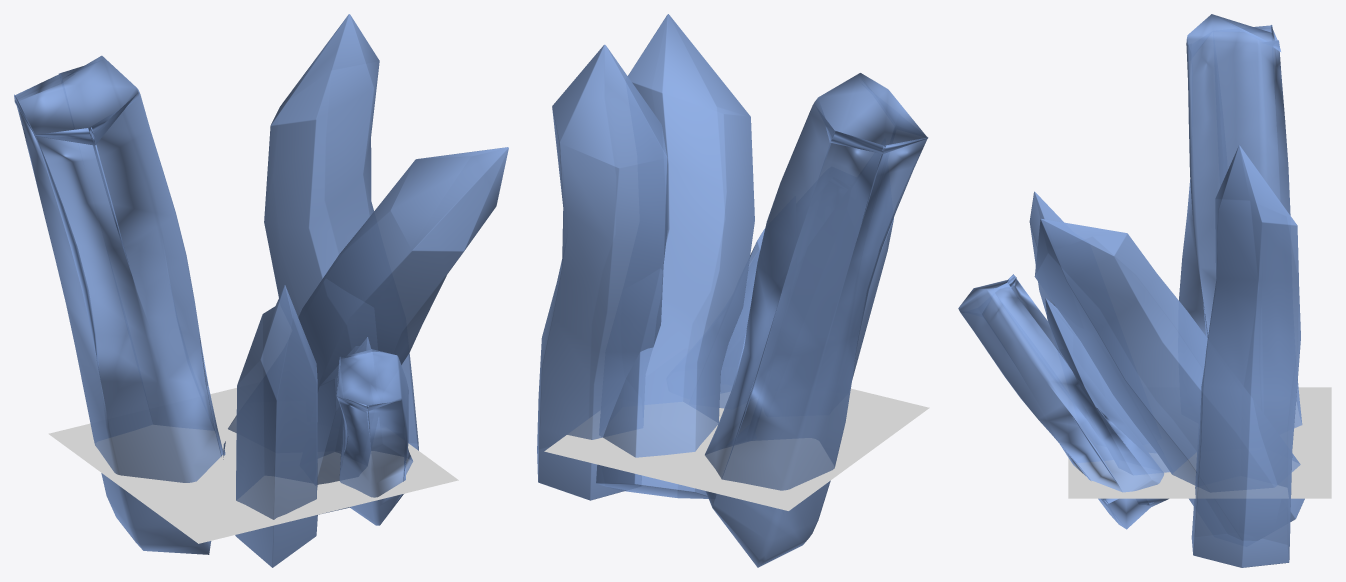
Rendered from Crystals1.fbx.
3 views of the same model, side by side, from view 1: azimuth 30°, elevation 25°; view 2: azimuth 150°, elevation 25°; view 3: azimuth 270°, elevation 25° (orthographic). The views are drawn at different scales.
Visible parts, largest first — view 1: Crystals1|Crystal1|Dupli|4, Crystals1|Crystal3|Dupli|2, Crystals1|Crystal3|Dupli|5, Crystals1, Crystals1|Crystal2|Dupli|, Crystals1|Crystal1|Dupli|1, Crystals1|Crystal2|Dupli|3; view 2: Crystals1|Crystal1|Dupli|4, Crystals1|Crystal3|Dupli|5, Crystals1|Crystal3|Dupli|2, Crystals1, Crystals1|Crystal2|Dupli|3, Crystals1|Crystal1|Dupli|1, Crystals1|Crystal2|Dupli|; view 3: Crystals1|Crystal3|Dupli|2, Crystals1|Crystal3|Dupli|5, Crystals1|Crystal1|Dupli|4, Crystals1|Crystal1|Dupli|1, Crystals1, Crystals1|Crystal2|Dupli|3, Crystals1|Crystal2|Dupli|.
Part boxes in pixels (x1,y1,x2,y2): Crystals1|Crystal1|Dupli|4: [14, 55, 225, 554]; Crystals1|Crystal3|Dupli|2: [264, 14, 418, 450]; Crystals1|Crystal3|Dupli|5: [228, 147, 508, 432]; Crystals1: [48, 388, 458, 543]; Crystals1|Crystal2|Dupli|: [235, 285, 317, 567]; Crystals1|Crystal1|Dupli|1: [336, 349, 413, 525]; Crystals1|Crystal2|Dupli|3: [314, 337, 379, 514]; Crystals1|Crystal1|Dupli|4: [705, 73, 928, 567]; Crystals1|Crystal3|Dupli|5: [596, 14, 754, 498]; Crystals1|Crystal3|Dupli|2: [537, 44, 667, 500]; Crystals1: [544, 388, 929, 510]; Crystals1|Crystal2|Dupli|3: [719, 229, 764, 408]; Crystals1|Crystal1|Dupli|1: [720, 272, 755, 392]; Crystals1|Crystal2|Dupli|: [852, 218, 893, 379]; Crystals1|Crystal3|Dupli|2: [1191, 145, 1300, 567]; Crystals1|Crystal3|Dupli|5: [1034, 218, 1304, 540]; Crystals1|Crystal1|Dupli|4: [1179, 14, 1302, 428]; Crystals1|Crystal1|Dupli|1: [958, 274, 1168, 529]; Crystals1: [1068, 387, 1331, 498]; Crystals1|Crystal2|Dupli|3: [1045, 298, 1169, 505]; Crystals1|Crystal2|Dupli|: [1029, 191, 1063, 315].
Bounding box in the file's own units: 187 × 223 × 173.
